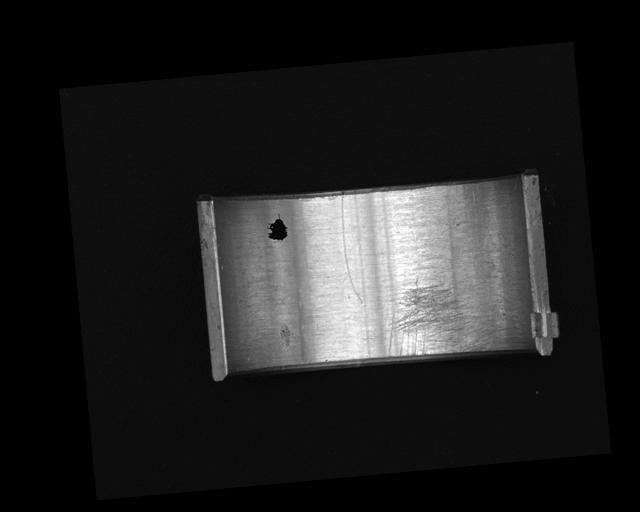blot: (265, 212, 289, 243)
bruise: (278, 324, 293, 348)
nick: (338, 192, 364, 306)
scratch: (379, 271, 490, 362)
